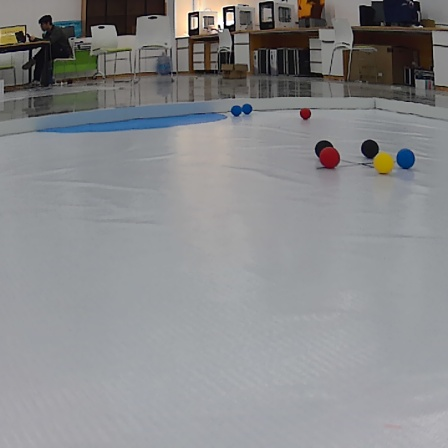black: (361, 136, 380, 160)
blue: (397, 145, 417, 170), (230, 105, 244, 119), (240, 103, 253, 116)
blue_base: (43, 112, 230, 133)
red: (320, 148, 344, 173), (302, 108, 313, 120)
yellow: (374, 150, 394, 173), (314, 137, 333, 155)
